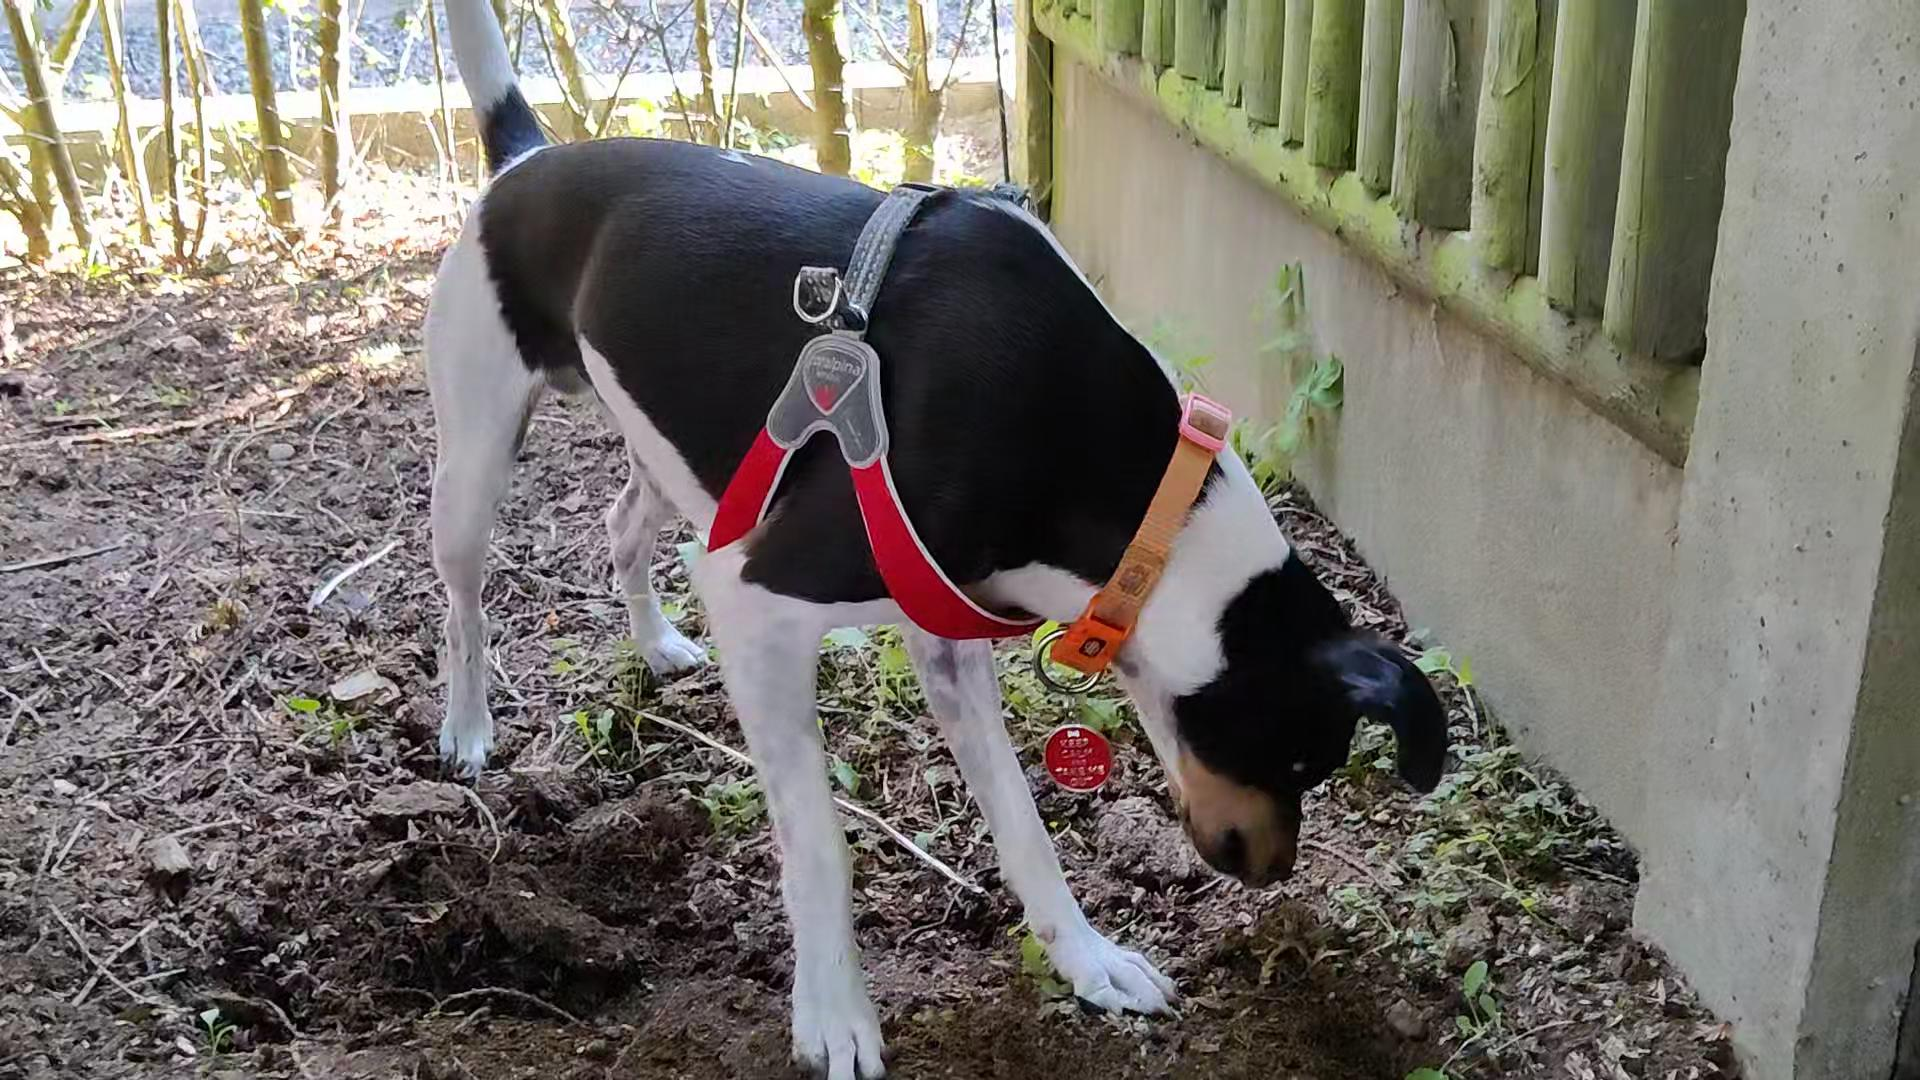Dog: (376, 0, 1485, 1080)
